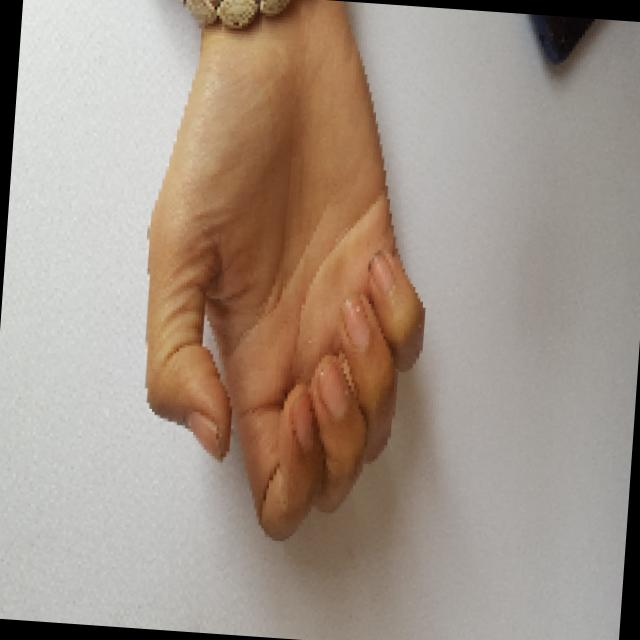Nail: (314, 361, 347, 420), (186, 412, 226, 459), (292, 394, 313, 449), (344, 302, 368, 346), (369, 254, 392, 290)
